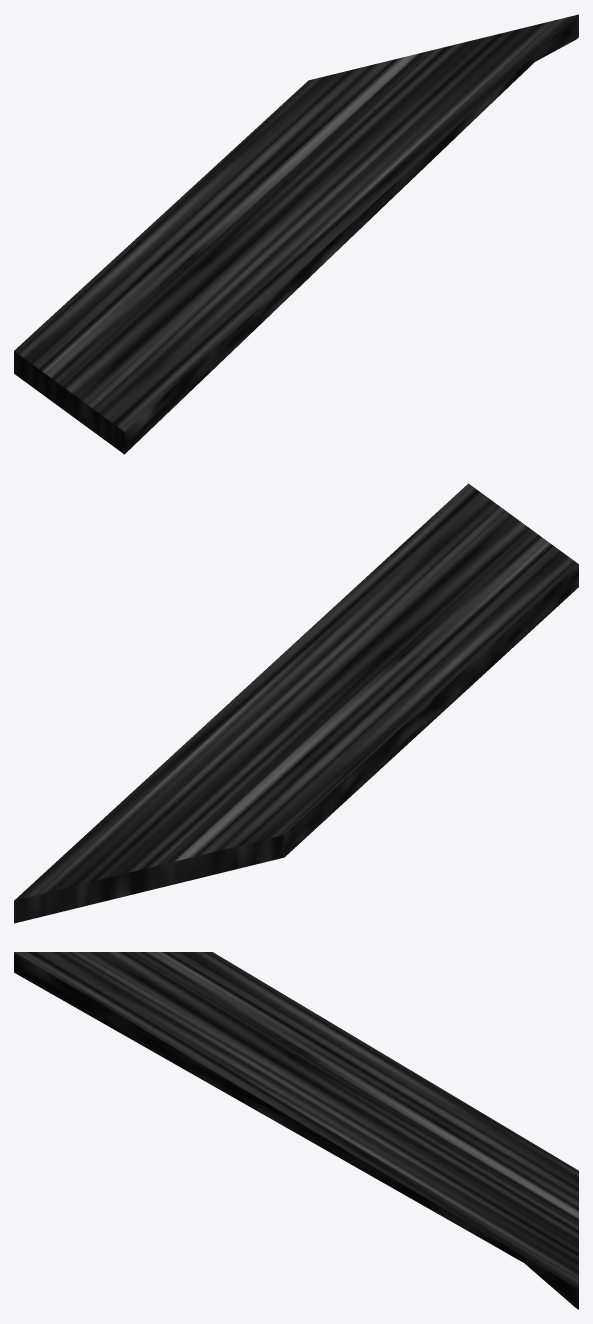
The model's file is Road.fbx.
3 views of the same model, one above another, from view 1: azimuth 30°, elevation 25°; view 2: azimuth 210°, elevation 25°; view 3: azimuth 270°, elevation 25° (orthographic). The views are drawn at different scales.
Parts seen in each view (by area): view 1: Cube; view 2: Cube; view 3: Cube.
Part boxes in pixels (box(x1,y1,x2,y2)): Cube: box(14, 14, 578, 454); Cube: box(14, 483, 578, 923); Cube: box(14, 952, 578, 1309).
Size of the model in its own units: 7064 by 200 by 5000.
1 material, 1 textured.
